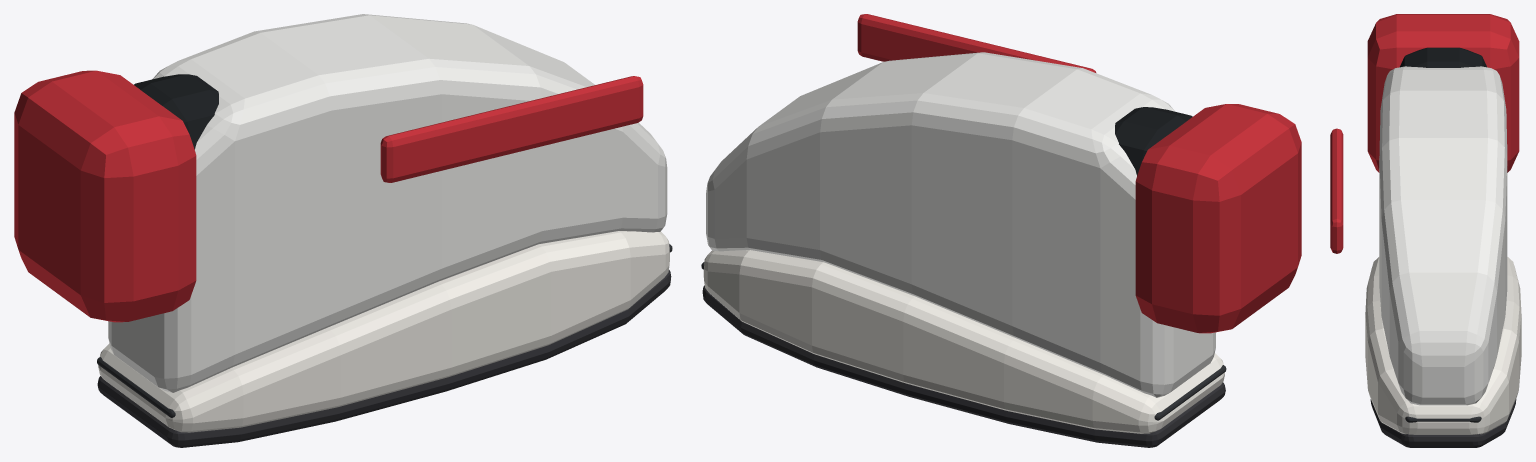
The model's file is nike-vaporfly-4pct-study.glb.
3 views of the same model, side by side, from view 1: azimuth 30°, elevation 25°; view 2: azimuth 150°, elevation 25°; view 3: azimuth 270°, elevation 25° (orthographic). The views are drawn at different scales.
Visible parts, largest first — view 1: nike-vaporfly-4pct-study_UPPER, nike-vaporfly-4pct-study_MIDSOLE, nike-vaporfly-4pct-study_HEEL_COUNTER, nike-vaporfly-4pct-study_MUSEUM_ID_PANEL, nike-vaporfly-4pct-study_OUTSOLE, nike-vaporfly-4pct-study_COLLAR_VOID, nike-vaporfly-4pct-study_CARBON_FLYPLATE; view 2: nike-vaporfly-4pct-study_UPPER, nike-vaporfly-4pct-study_MIDSOLE, nike-vaporfly-4pct-study_HEEL_COUNTER, nike-vaporfly-4pct-study_OUTSOLE, nike-vaporfly-4pct-study_MUSEUM_ID_PANEL, nike-vaporfly-4pct-study_COLLAR_VOID; view 3: nike-vaporfly-4pct-study_UPPER, nike-vaporfly-4pct-study_MIDSOLE, nike-vaporfly-4pct-study_HEEL_COUNTER, nike-vaporfly-4pct-study_OUTSOLE, nike-vaporfly-4pct-study_MUSEUM_ID_PANEL, nike-vaporfly-4pct-study_COLLAR_VOID, nike-vaporfly-4pct-study_CARBON_FLYPLATE.
Boxes of the visible parts, left/top/right/bottom form: nike-vaporfly-4pct-study_UPPER: left=108, top=14, right=667, bottom=392; nike-vaporfly-4pct-study_MIDSOLE: left=98, top=231, right=669, bottom=432; nike-vaporfly-4pct-study_HEEL_COUNTER: left=14, top=70, right=196, bottom=322; nike-vaporfly-4pct-study_MUSEUM_ID_PANEL: left=380, top=76, right=643, bottom=182; nike-vaporfly-4pct-study_OUTSOLE: left=97, top=270, right=671, bottom=447; nike-vaporfly-4pct-study_COLLAR_VOID: left=134, top=74, right=218, bottom=149; nike-vaporfly-4pct-study_CARBON_FLYPLATE: left=97, top=244, right=672, bottom=417; nike-vaporfly-4pct-study_UPPER: left=706, top=52, right=1215, bottom=397; nike-vaporfly-4pct-study_MIDSOLE: left=703, top=250, right=1224, bottom=433; nike-vaporfly-4pct-study_HEEL_COUNTER: left=1135, top=104, right=1301, bottom=333; nike-vaporfly-4pct-study_OUTSOLE: left=702, top=285, right=1225, bottom=447; nike-vaporfly-4pct-study_MUSEUM_ID_PANEL: left=857, top=14, right=1096, bottom=72; nike-vaporfly-4pct-study_COLLAR_VOID: left=1115, top=107, right=1192, bottom=175; nike-vaporfly-4pct-study_UPPER: left=1379, top=66, right=1507, bottom=405; nike-vaporfly-4pct-study_MIDSOLE: left=1365, top=257, right=1521, bottom=434; nike-vaporfly-4pct-study_HEEL_COUNTER: left=1367, top=14, right=1519, bottom=172; nike-vaporfly-4pct-study_OUTSOLE: left=1370, top=399, right=1516, bottom=447; nike-vaporfly-4pct-study_MUSEUM_ID_PANEL: left=1330, top=128, right=1343, bottom=253; nike-vaporfly-4pct-study_COLLAR_VOID: left=1400, top=47, right=1486, bottom=67; nike-vaporfly-4pct-study_CARBON_FLYPLATE: left=1405, top=416, right=1481, bottom=422.
Size of the model in its own units: 0.322 by 0.172 by 0.1184.
